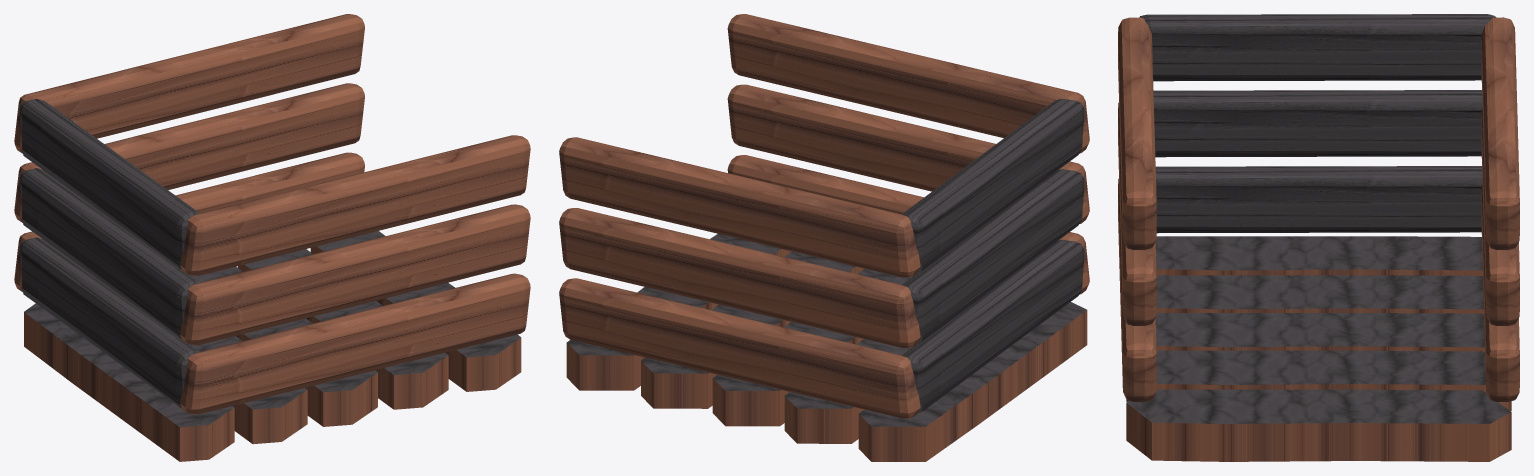
File: Broken_Cargo_Crate_Barren.glb
The picture shows the model from 3 angles, left to right: view 1: azimuth 30°, elevation 25°; view 2: azimuth 150°, elevation 25°; view 3: azimuth 270°, elevation 25°; orthographic projection. The views are drawn at different scales.
Parts seen in each view (by area): view 1: Structure; view 2: Structure; view 3: Structure.
Part boxes in pixels (bbox=[...]): Structure: bbox=[14, 14, 530, 461]; Structure: bbox=[559, 14, 1089, 461]; Structure: bbox=[1118, 14, 1519, 461].
Bounding box in the file's own units: 1.59 × 1.04 × 1.44.
Materials: 2 (2 with a texture image).
